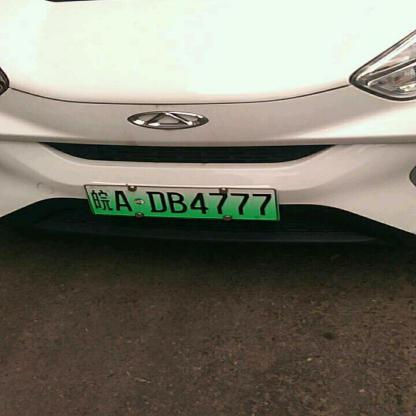lp: (84, 184, 277, 219)
